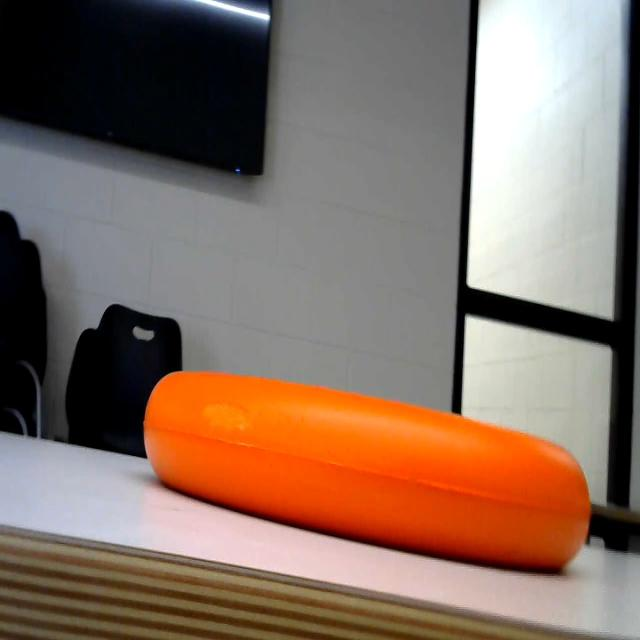note: (139, 361, 598, 581)
